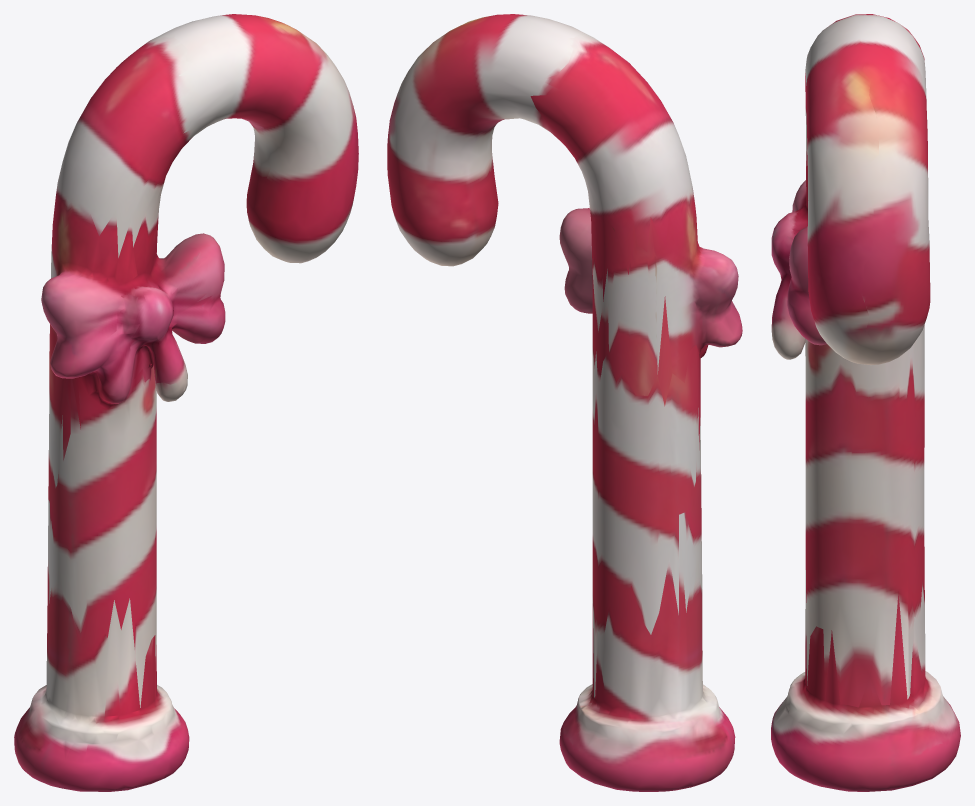
File: CF_CandyCane.fbx
The picture shows the model from 3 angles, left to right: view 1: azimuth 30°, elevation 25°; view 2: azimuth 150°, elevation 25°; view 3: azimuth 270°, elevation 25°; orthographic projection. The views are drawn at different scales.
Visible parts, largest first — view 1: CF_CandyCane; view 2: CF_CandyCane; view 3: CF_CandyCane.
Boxes of the visible parts, left/top/right/bottom form: CF_CandyCane: left=14, top=14, right=358, bottom=791; CF_CandyCane: left=387, top=14, right=742, bottom=791; CF_CandyCane: left=771, top=14, right=960, bottom=791.
Bounding box in the file's own units: 3.86 × 8 × 1.75.
